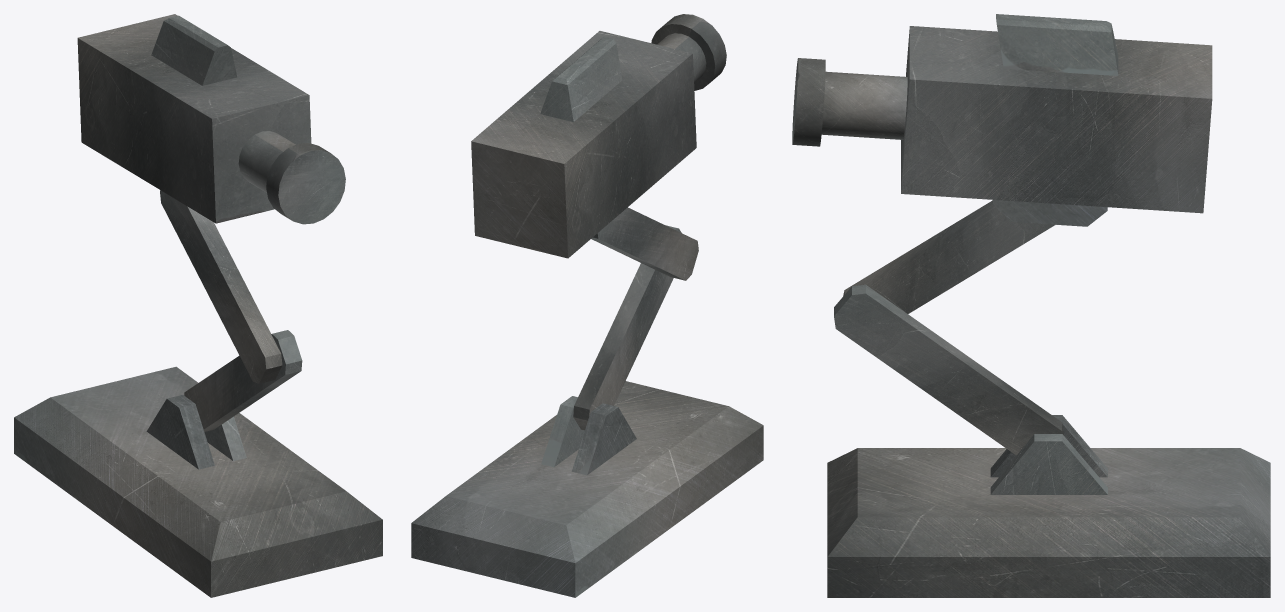
Rendered from Security Joint Camera.fbx.
3 renders of one model, left to right at view 1: azimuth 30°, elevation 25°; view 2: azimuth 150°, elevation 25°; view 3: azimuth 270°, elevation 25°, orthographic. The views are drawn at different scales.
Parts seen in each view (by area): view 1: Gatling_Base1, Gatling_Upper, Gatling_Arm_3, Gatling_Rotor_1, Gatling_Arm_1; view 2: Gatling_Base1, Gatling_Upper, Gatling_Arm_1, Gatling_Arm_3, Gatling_Rotor_1; view 3: Gatling_Base1, Gatling_Upper, Gatling_Arm_1, Gatling_Arm_3, Gatling_Rotor_1.
Boxes of the visible parts, bbox=[...] form: Gatling_Base1: bbox=[14, 366, 382, 597]; Gatling_Upper: bbox=[77, 14, 311, 223]; Gatling_Arm_3: bbox=[160, 190, 282, 383]; Gatling_Rotor_1: bbox=[238, 131, 345, 224]; Gatling_Arm_1: bbox=[184, 330, 302, 431]; Gatling_Base1: bbox=[411, 381, 763, 597]; Gatling_Upper: bbox=[471, 31, 696, 258]; Gatling_Arm_1: bbox=[573, 225, 681, 430]; Gatling_Arm_3: bbox=[591, 207, 698, 280]; Gatling_Rotor_1: bbox=[651, 14, 726, 90]; Gatling_Base1: bbox=[827, 415, 1270, 597]; Gatling_Upper: bbox=[901, 14, 1212, 226]; Gatling_Arm_1: bbox=[834, 284, 1063, 455]; Gatling_Arm_3: bbox=[843, 200, 1055, 313]; Gatling_Rotor_1: bbox=[792, 58, 907, 146].
Bounding box in the file's own units: 2.97 × 7.85 × 6.36.
1 material, 1 textured.
